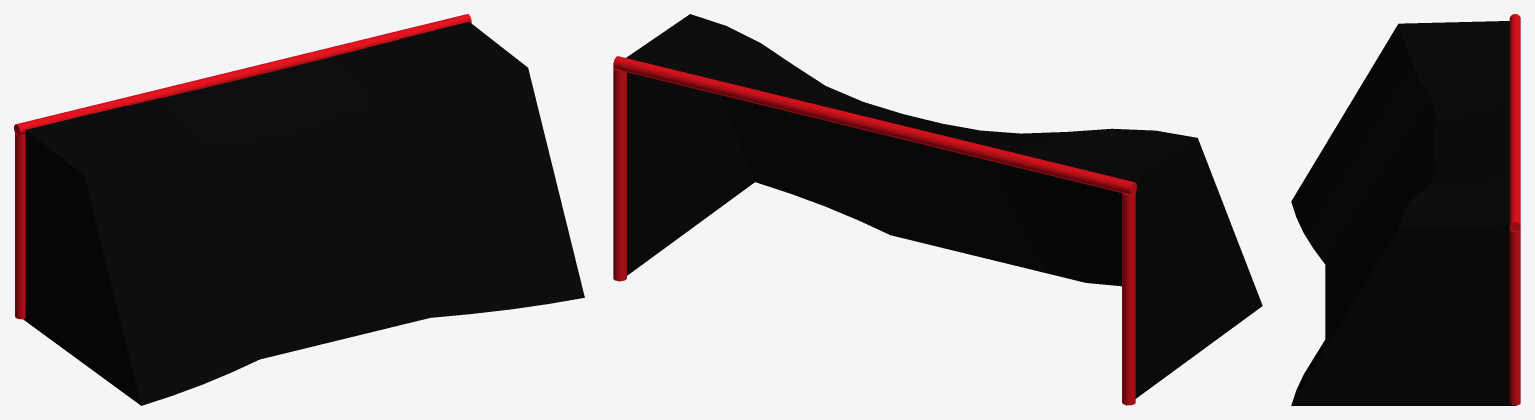
File: arco rojo.fbx
The picture shows the model from 3 angles, left to right: view 1: azimuth 30°, elevation 25°; view 2: azimuth 150°, elevation 25°; view 3: azimuth 270°, elevation 25°; orthographic projection. The views are drawn at different scales.
Visible parts, largest first — view 1: Cylinder.001; view 2: Cylinder.001; view 3: Cylinder.001.
Boxes of the visible parts, x1,y1,x2,y2 form: Cylinder.001: (14,14,584,405); Cylinder.001: (613,14,1262,405); Cylinder.001: (1291,14,1520,405).
Bounding box in the file's own units: 2639 × 1086 × 1222.
